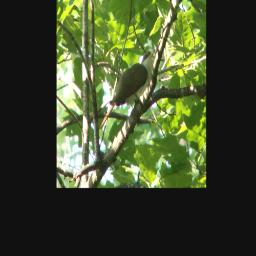Cuckoo: (98, 48, 157, 131)
